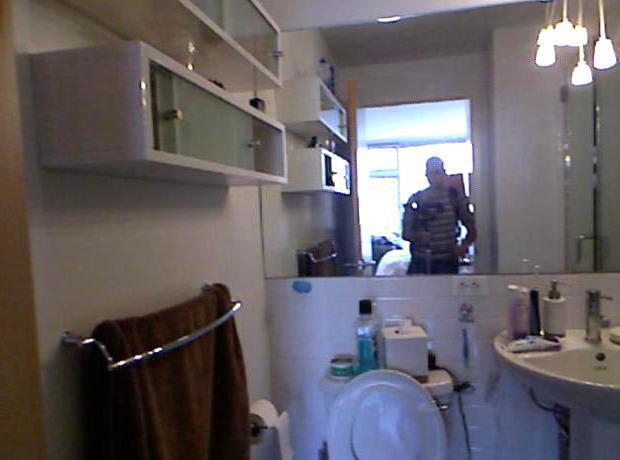Lavamanos: (497, 287, 619, 457)
Sanitario: (317, 368, 449, 456)
